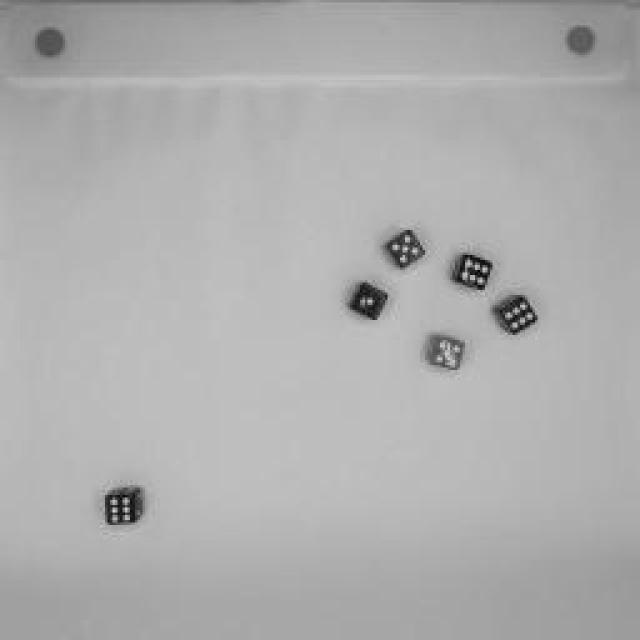dice_1: (344, 275, 391, 325)
dice_5: (375, 222, 430, 278), (419, 329, 471, 381)
dice_6: (488, 285, 542, 345), (99, 481, 151, 529), (448, 248, 494, 298)
